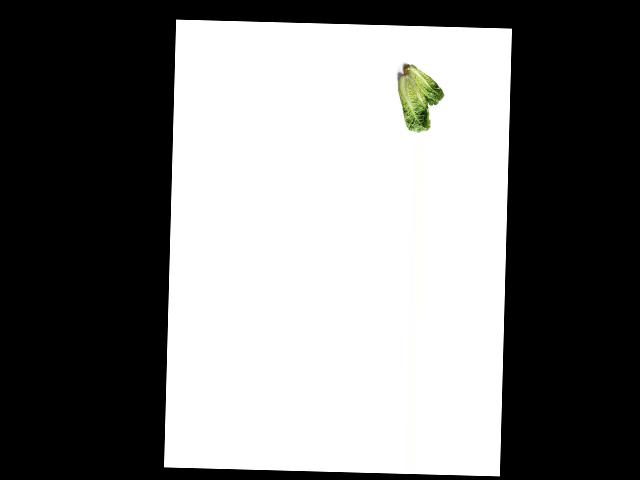lettuce: (401, 61, 445, 106)
